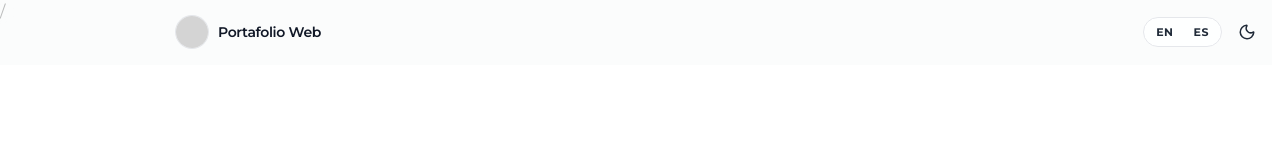
Test: Componente Header › cambia de idioma conservando la sección
Click the button with aria-label "Español" at (1201, 32), box left=1184, top=20, right=1219, bottom=44
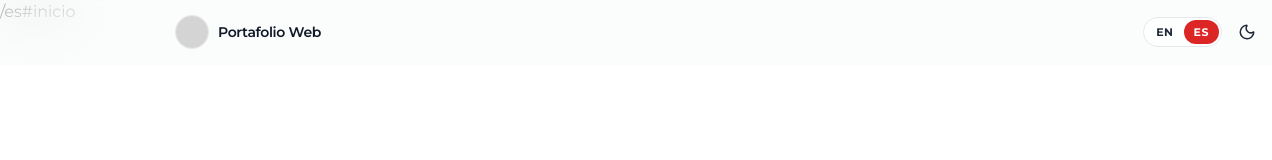
Expected: the text with test id "ruta" reads "/es#inicio", left=0, top=2, right=76, bottom=21
